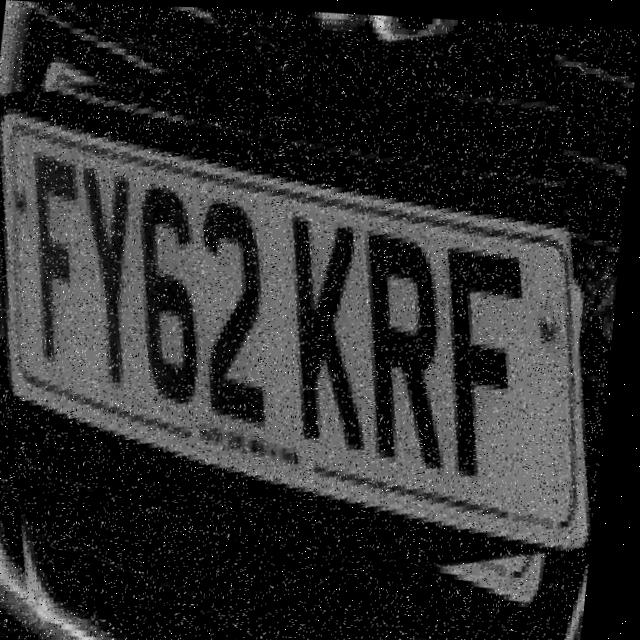LicensePlate: (0, 13, 628, 623)
